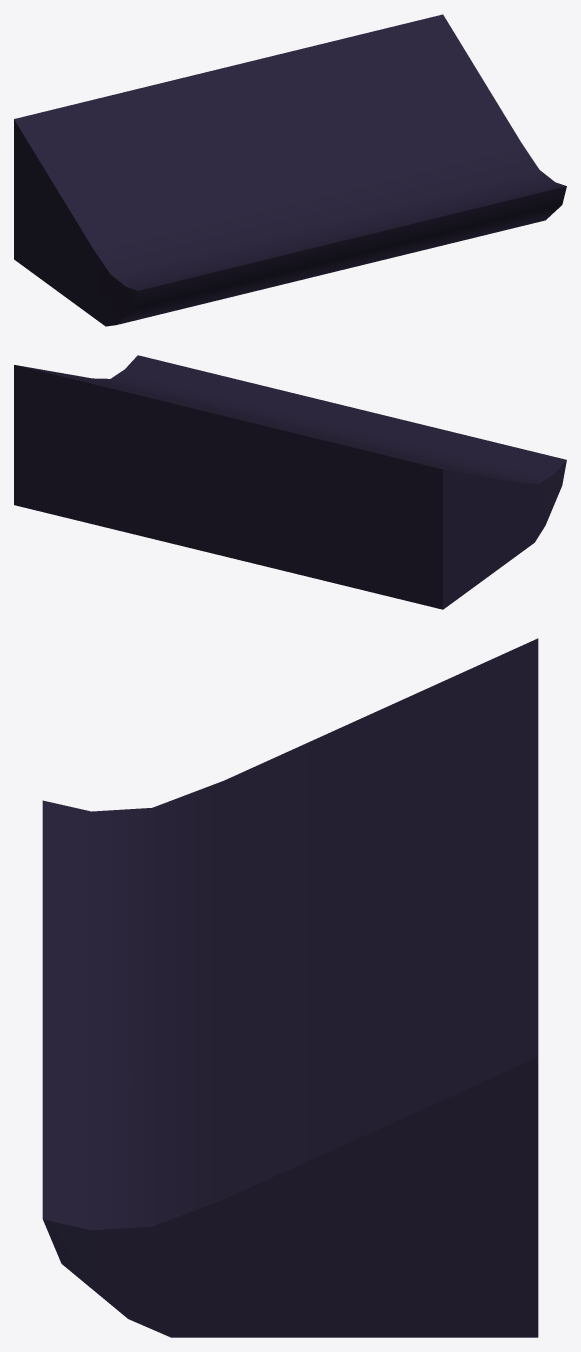
The model's file is BRoofPannel_B.fbx.
3 renders of one model, top to bottom at view 1: azimuth 30°, elevation 25°; view 2: azimuth 150°, elevation 25°; view 3: azimuth 270°, elevation 25°, orthographic. The views are drawn at different scales.
Parts seen in each view (by area): view 1: BRoofPannel_B; view 2: BRoofPannel_B; view 3: BRoofPannel_B.
Part boxes in pixels (x1,y1,x2,y2): BRoofPannel_B: (14,14,566,326); BRoofPannel_B: (14,355,566,609); BRoofPannel_B: (42,638,538,1337).
Bounding box in the file's own units: 801 × 250 × 400.
